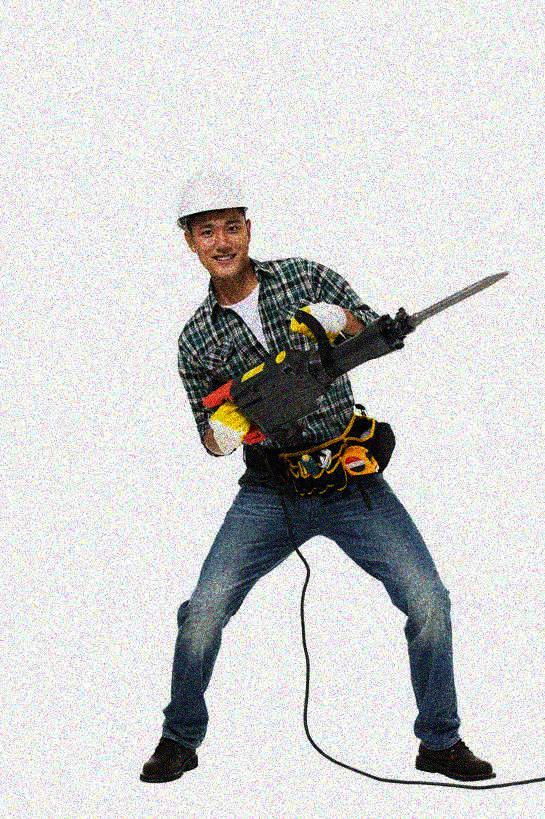helmet: (175, 170, 255, 282)
